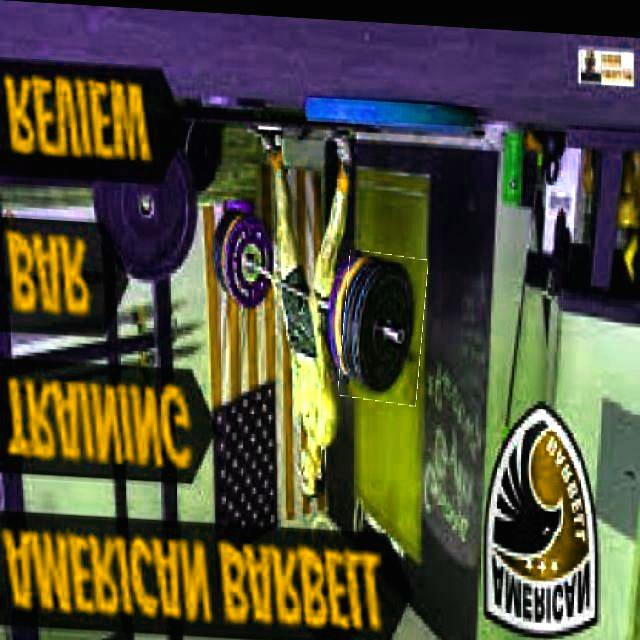barbell: (342, 247, 425, 400)
